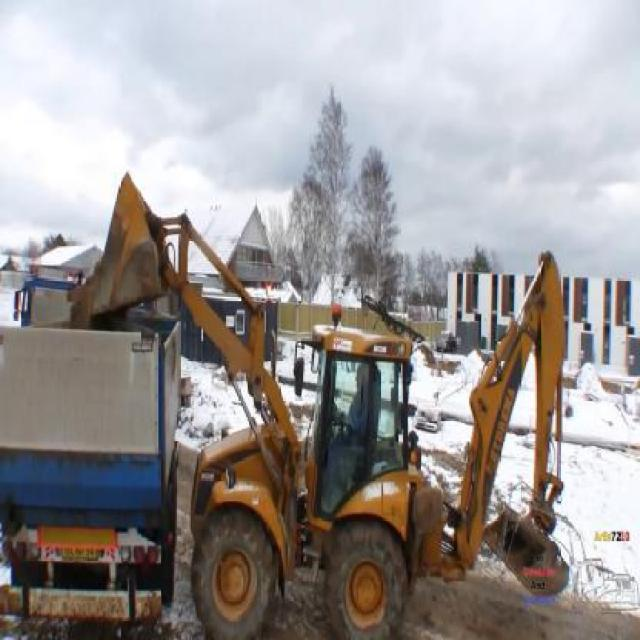dump_truck: (2, 308, 180, 640)
